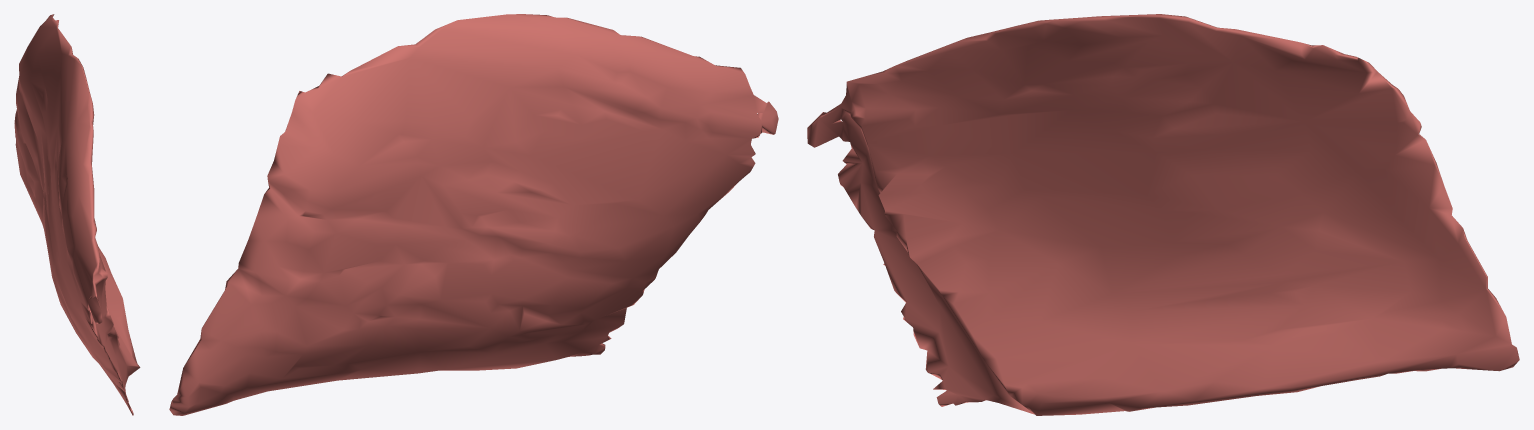
3 renders of one model, left to right at view 1: azimuth 30°, elevation 25°; view 2: azimuth 150°, elevation 25°; view 3: azimuth 270°, elevation 25°, orthographic. The views are drawn at different scales.
Visible parts, largest first — view 1: 右侧咬肌浅部; view 2: 右侧咬肌浅部; view 3: 右侧咬肌浅部.
Part boxes in pixels (left/top/right/bottom): 右侧咬肌浅部: left=14, top=14, right=140, bottom=415; 右侧咬肌浅部: left=169, top=14, right=778, bottom=415; 右侧咬肌浅部: left=807, top=14, right=1519, bottom=415.
Bounding box in the file's own units: 0.0392 × 0.0582 × 0.0915.
